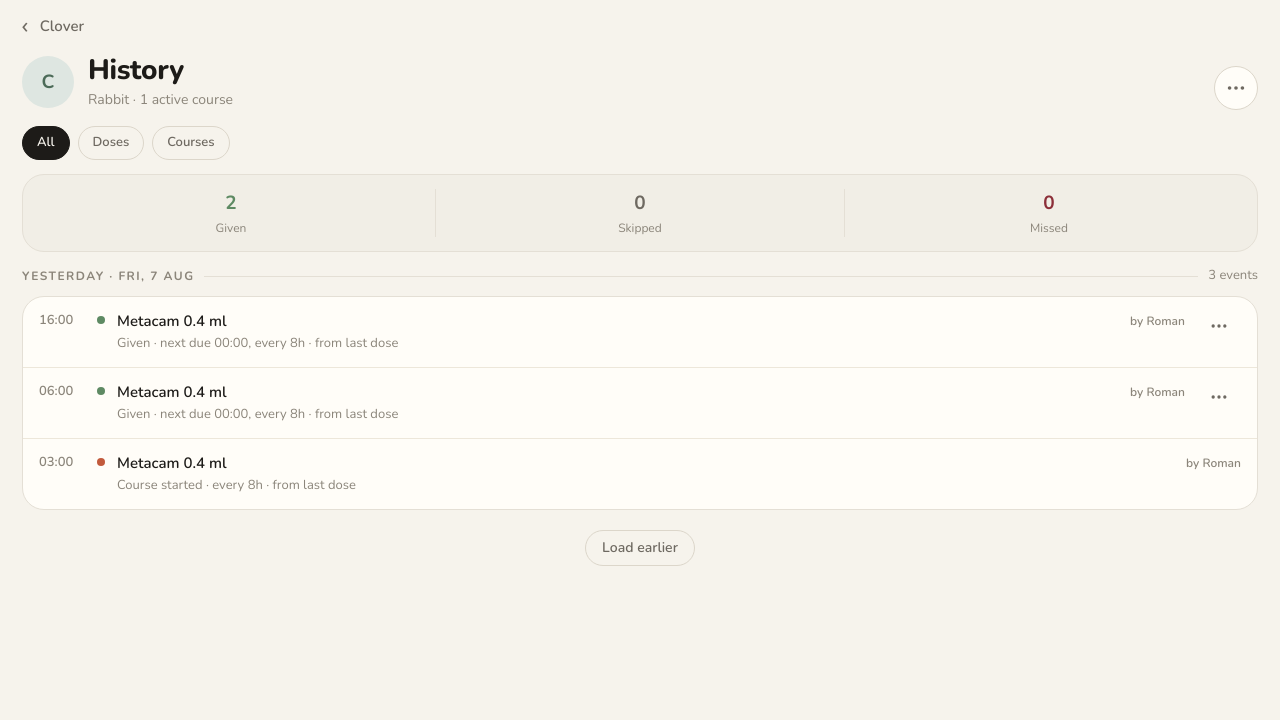
Test: editing a past dose's time › shows the corrected time on the row, and says the time was edited
expect the heading "History" is shown: met, box [88,51,184,89]
Click the button named "More options for Metacam" in the row of "06:00" at (1219, 397), box [1197,375,1241,419]
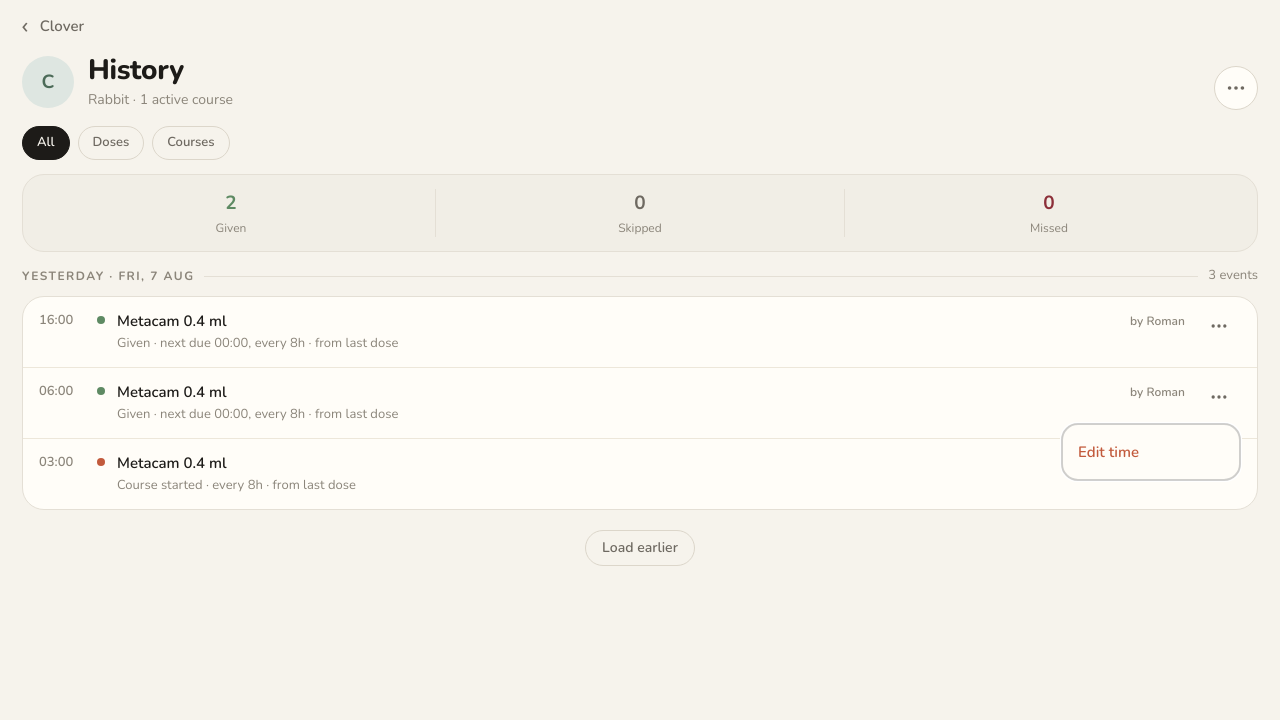
Click the menu item "Edit time" at (1108, 452), box [1078,442,1139,462]
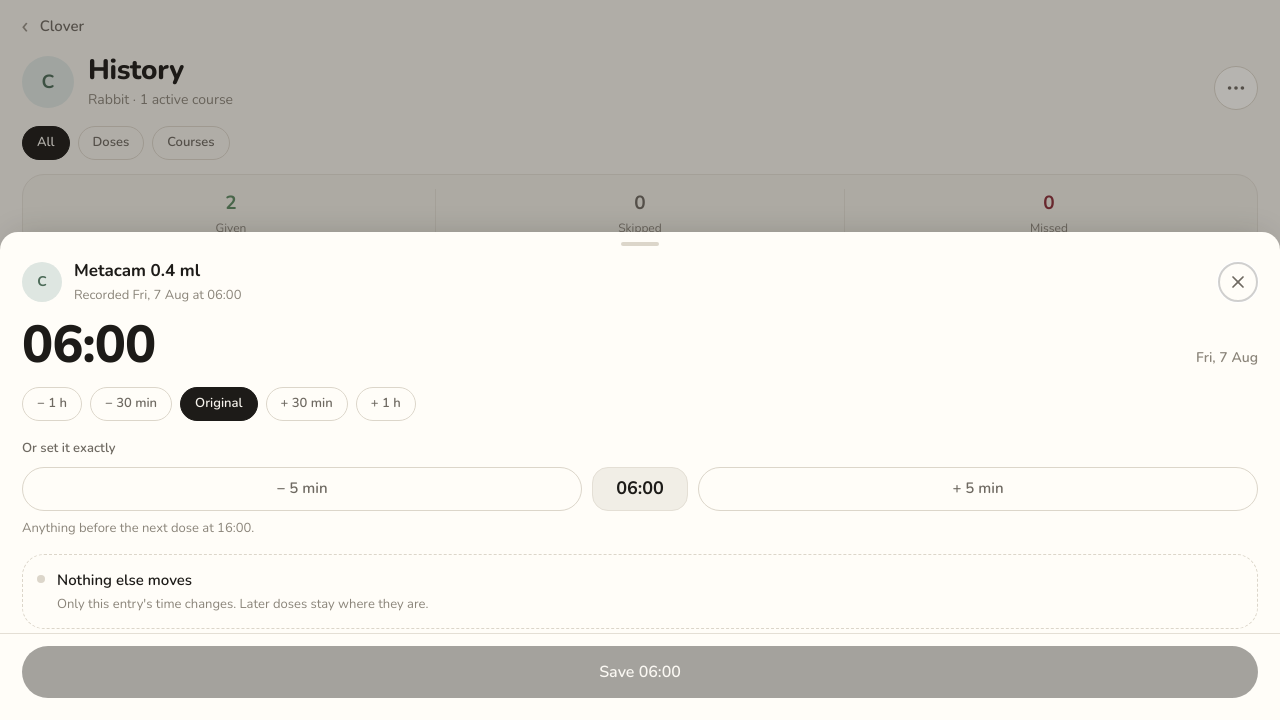
Click the button "− 1 h" at (52, 404), box [22,387,82,421]
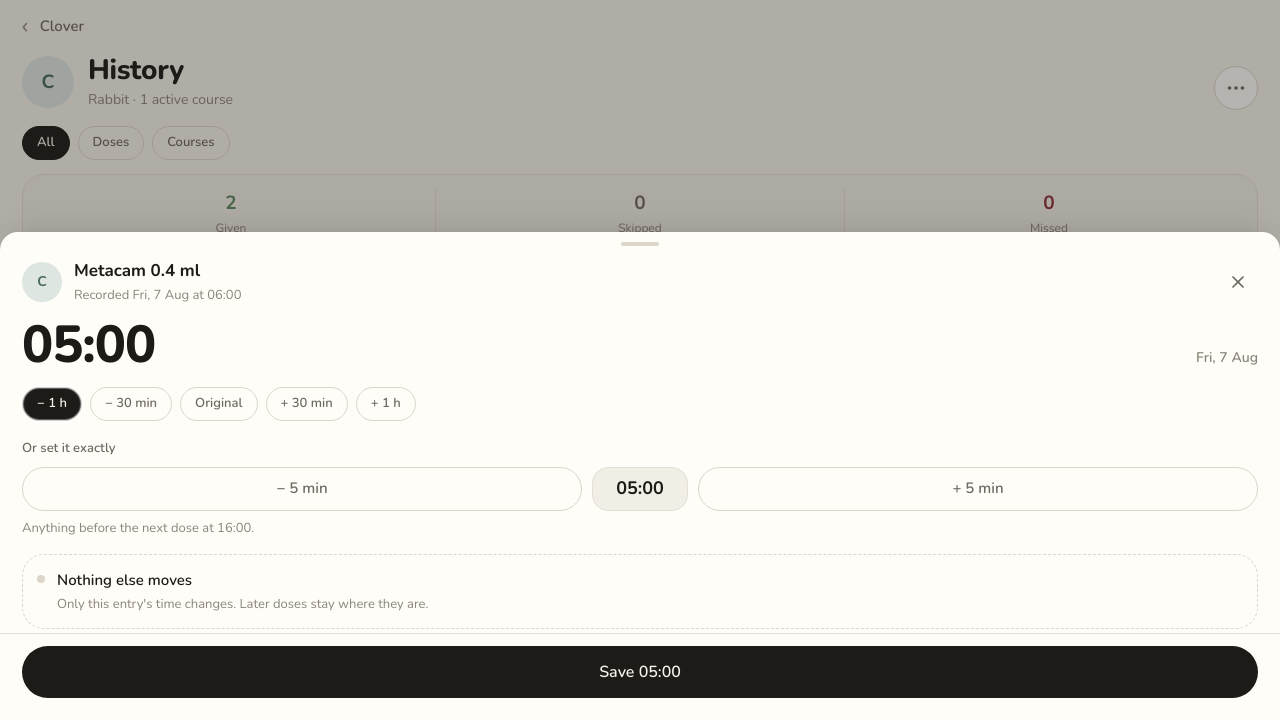
Click the button "Save 05:00" at (640, 672), box [22,646,1258,698]
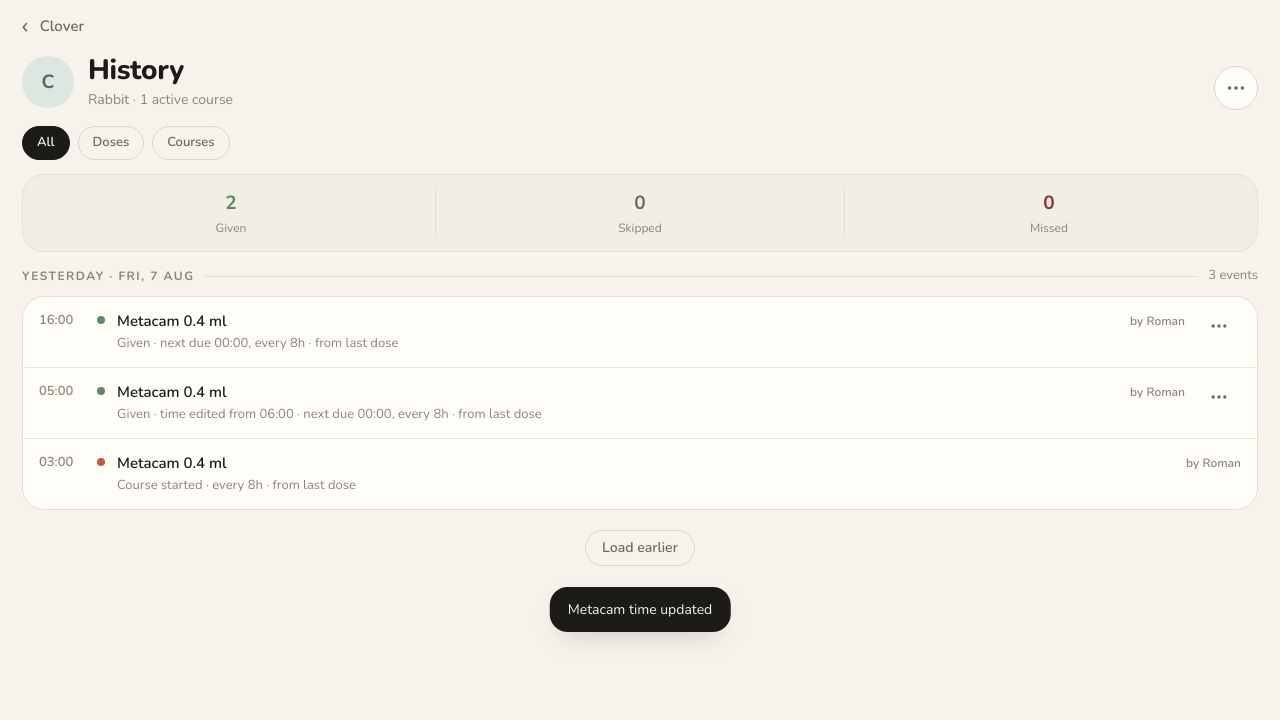
expect the text "05:00" is shown: met, box [39,382,73,400]
expect the text "time edited from 06:00" is shown: met, box [117,405,542,423]
expect the text "by Roman" is shown 3 times: met, box [1130,310,1185,330]; [1130,381,1185,401]; [1186,452,1241,472]
